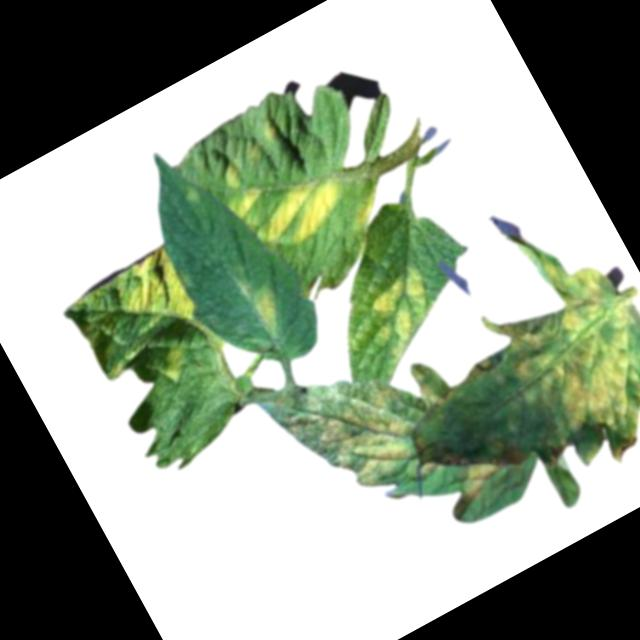Leaf_Mold: (470, 237, 640, 468), (286, 363, 432, 505), (352, 257, 459, 366), (103, 240, 202, 345), (253, 168, 355, 256), (206, 154, 271, 224), (403, 352, 455, 412), (452, 449, 507, 501), (242, 281, 290, 339), (153, 341, 197, 389)
